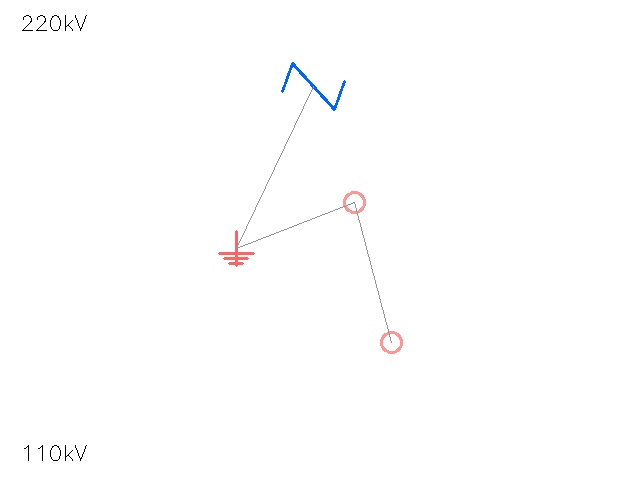circuit_breaker: (282, 55, 344, 117)
feeder_terminal: (371, 322, 411, 362)
ground: (219, 231, 253, 265)
voltage_transformer: (333, 181, 375, 223)
